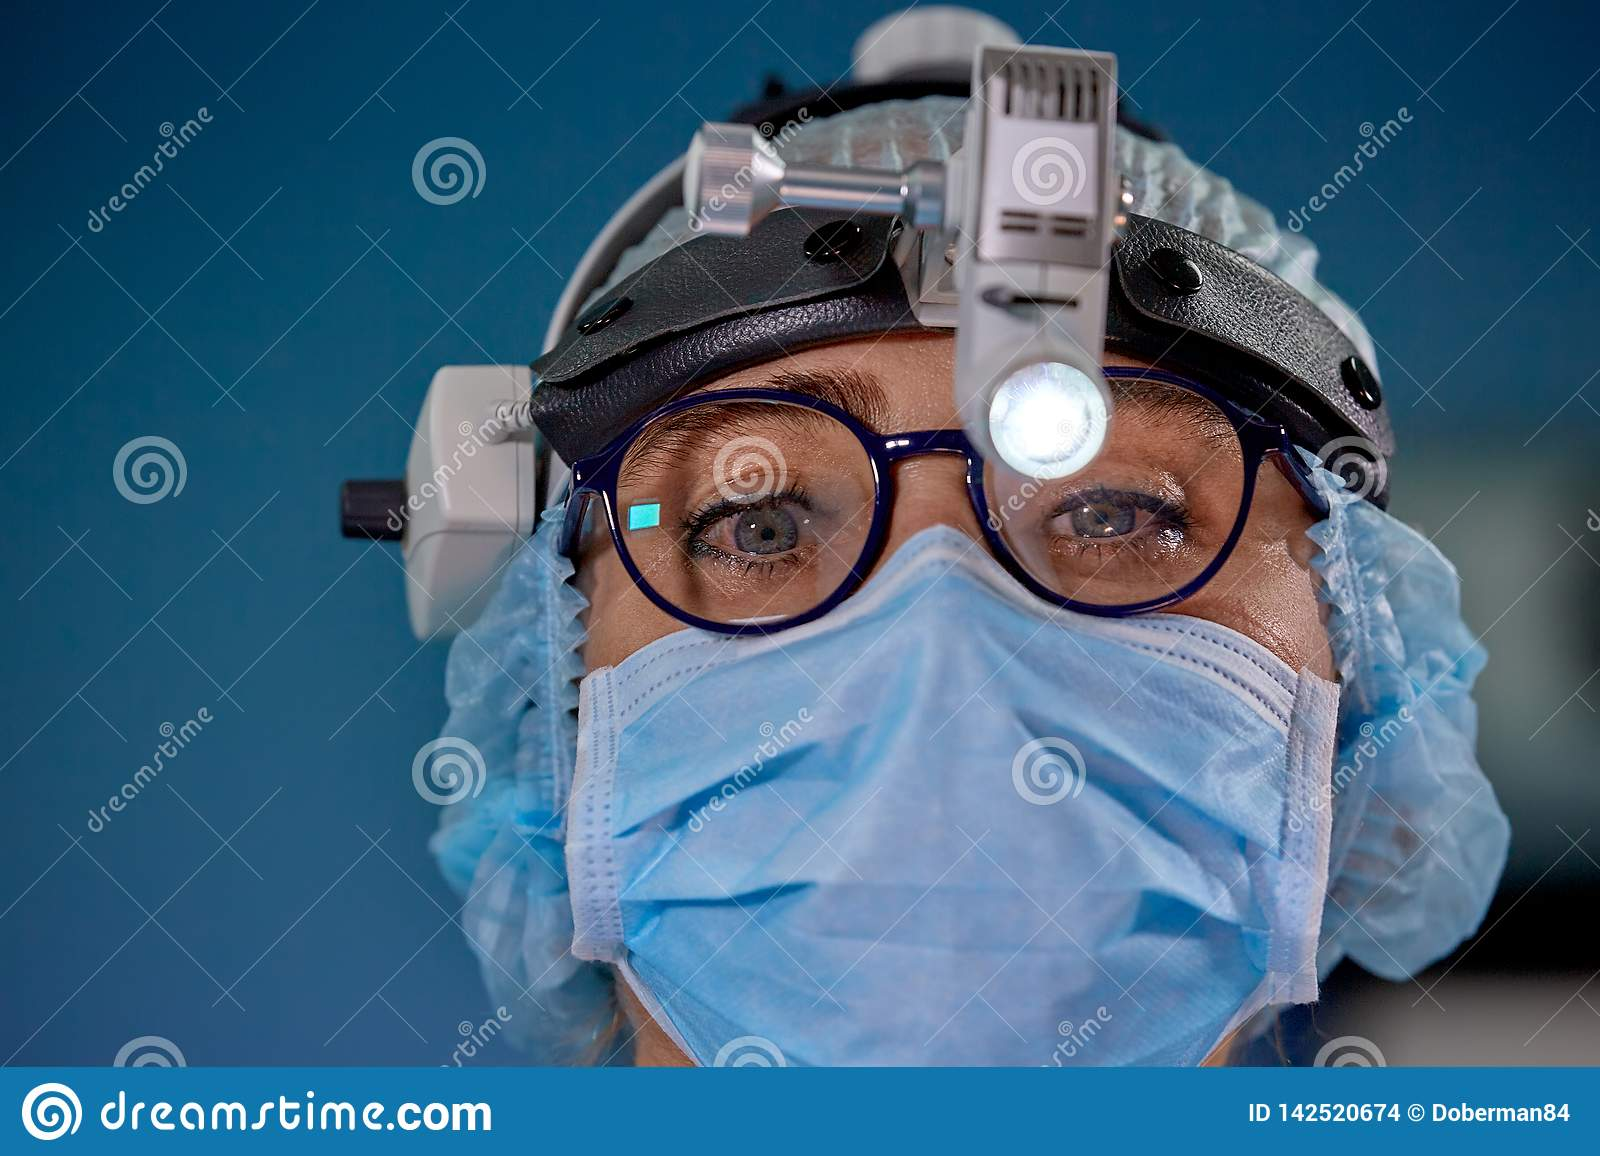mask: (525, 602, 1364, 1062)
